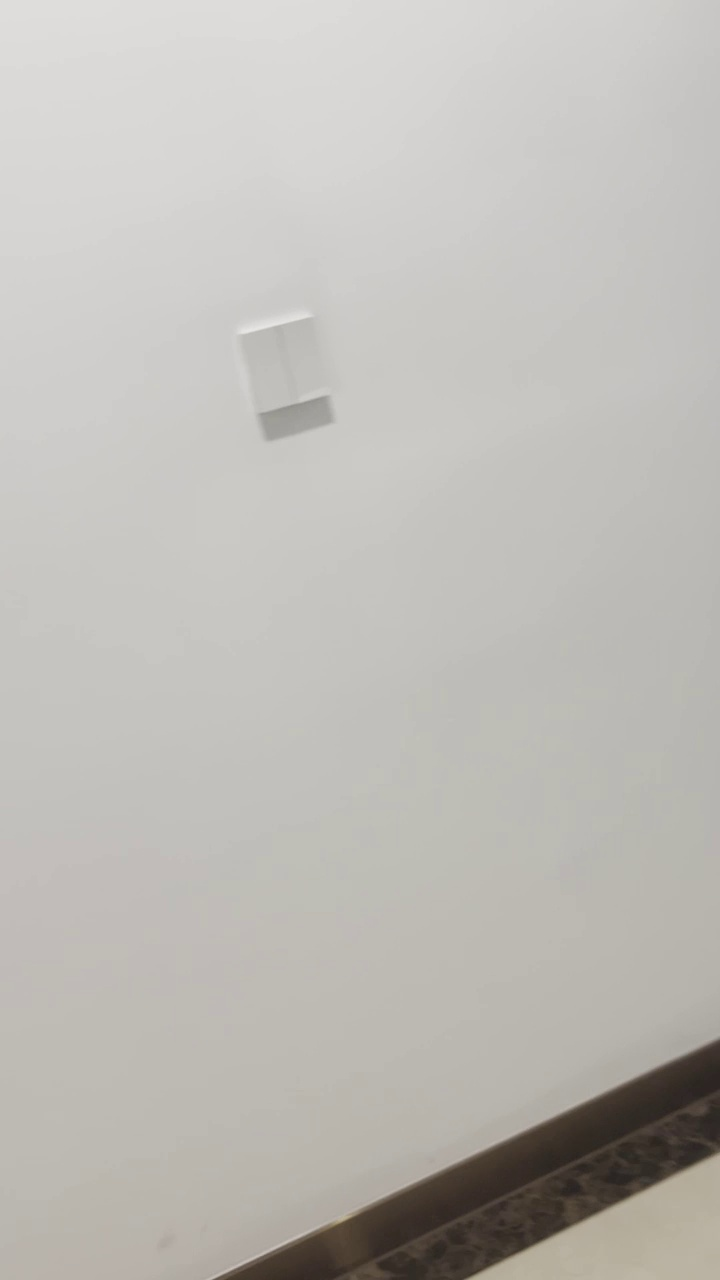button: (239, 308, 331, 419)
